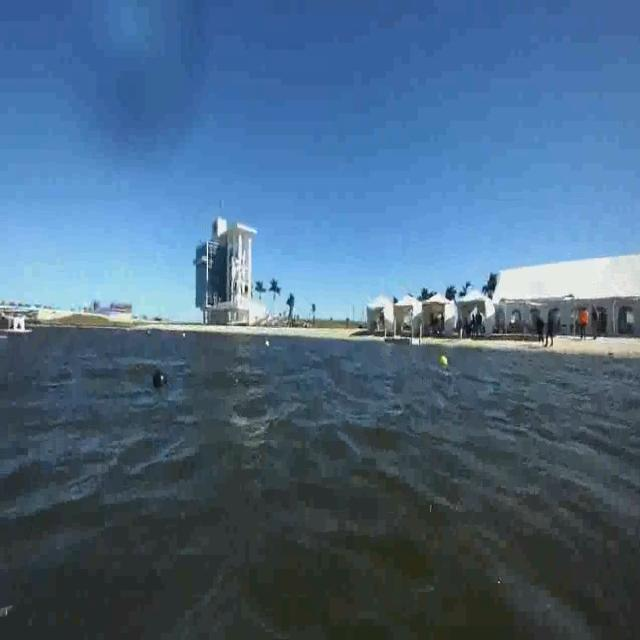black-buoy: (151, 368, 168, 391)
yellow-buoy: (441, 352, 451, 368)
